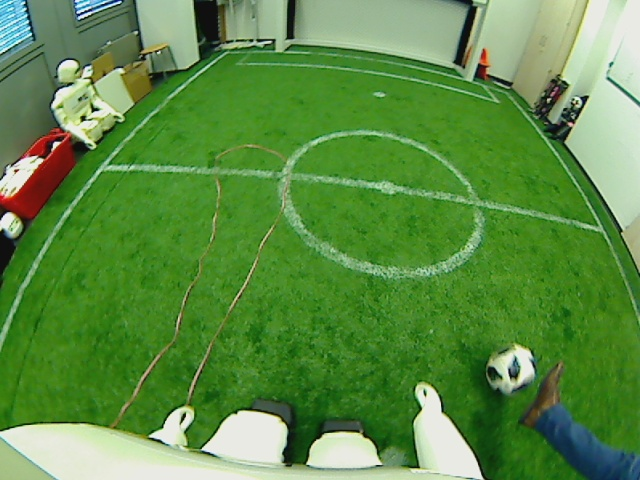ball: (482, 343, 539, 393)
